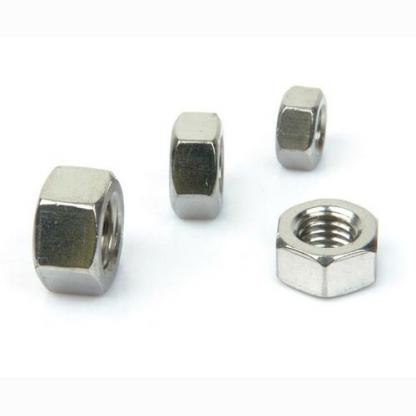FOD: (22, 165, 132, 301), (272, 194, 382, 301), (163, 107, 228, 222), (273, 80, 332, 178)
